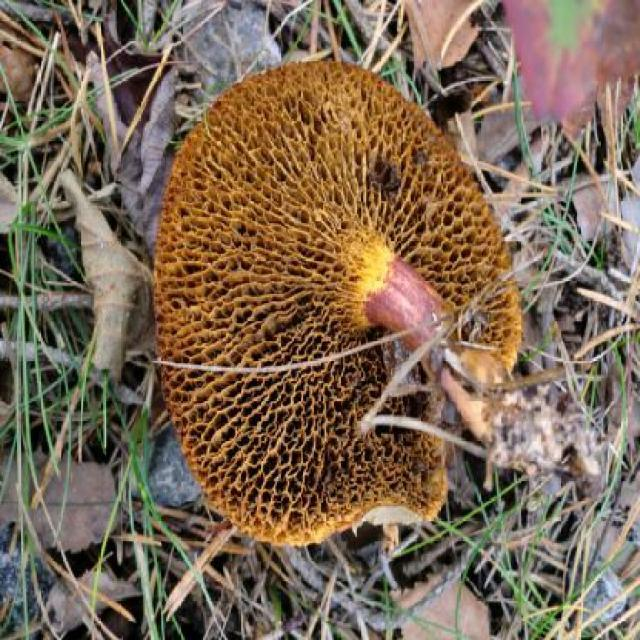Mushroom: (140, 49, 494, 586)
